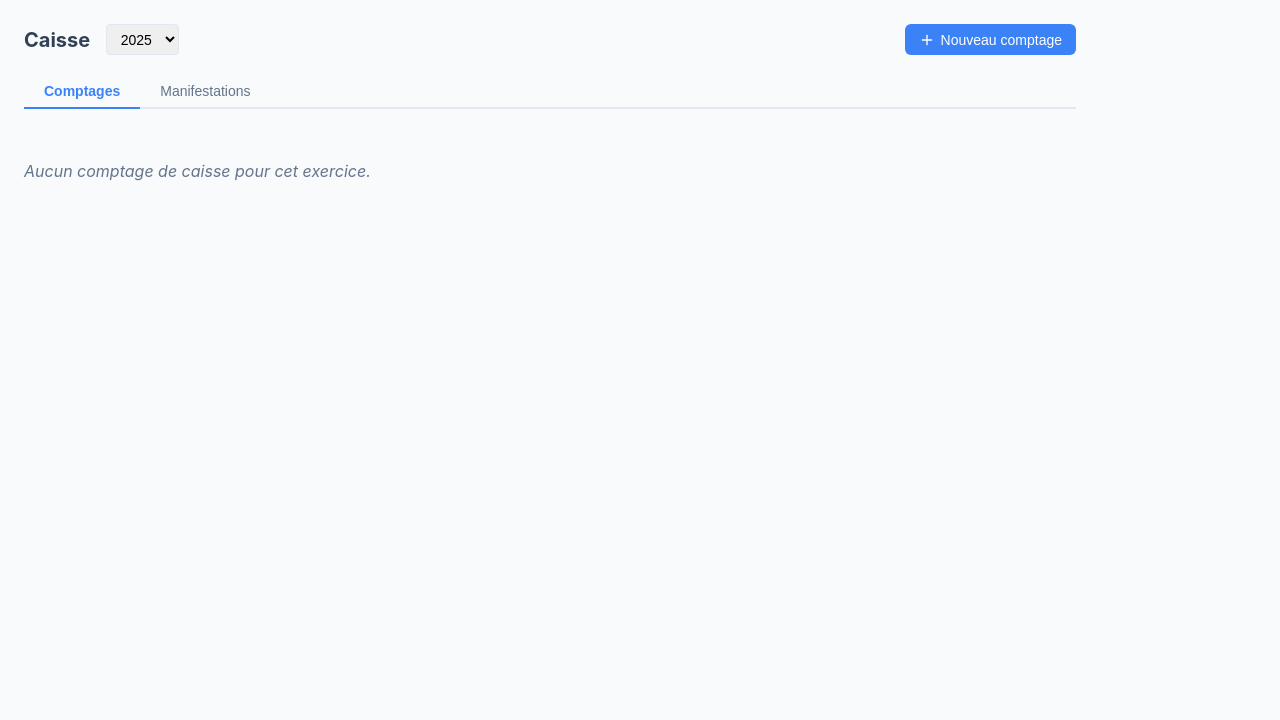
it: CaissePage — onglet Manifestations › le bouton Nouvelle session ouvre la modale
What coordinates should you click on to do the following:
click the tab "Manifestations"
I would click on:
 (205, 92)
Its box is [140,75,270,109].
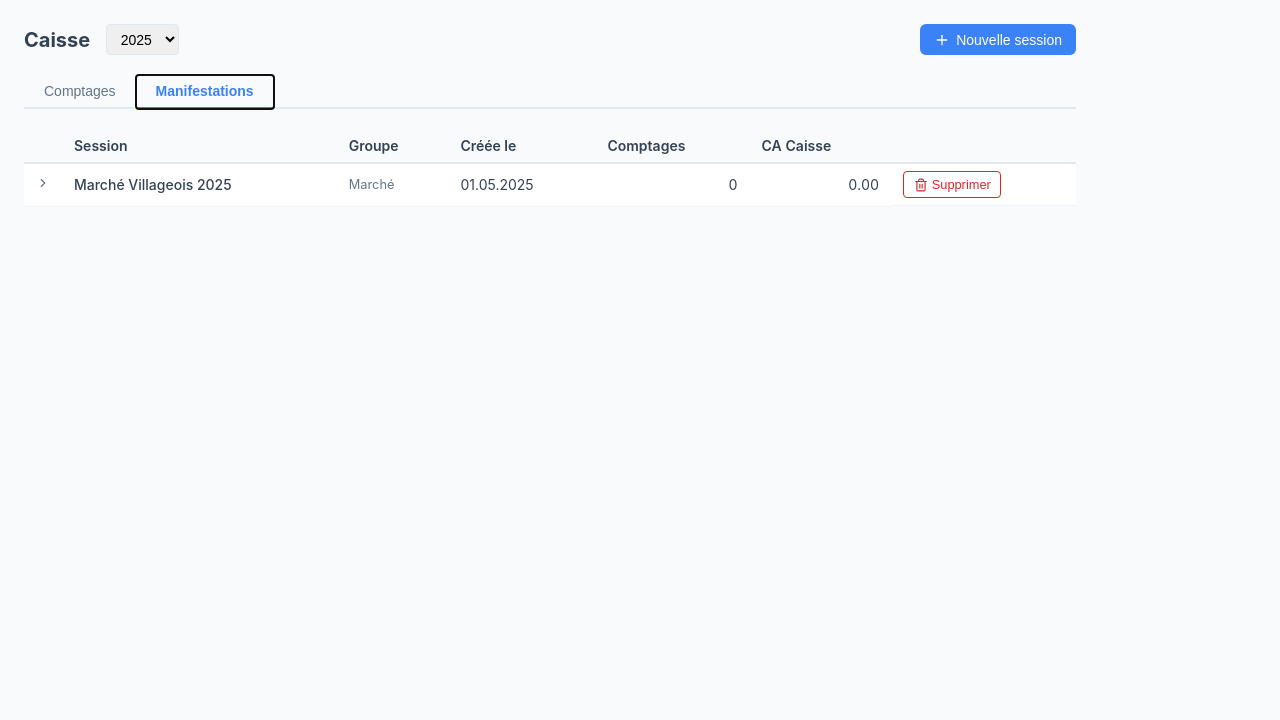
What coordinates should you click on to do the following:
click the button "Nouvelle session"
I would click on:
 (998, 40)
Its box is [920,24,1076,55].
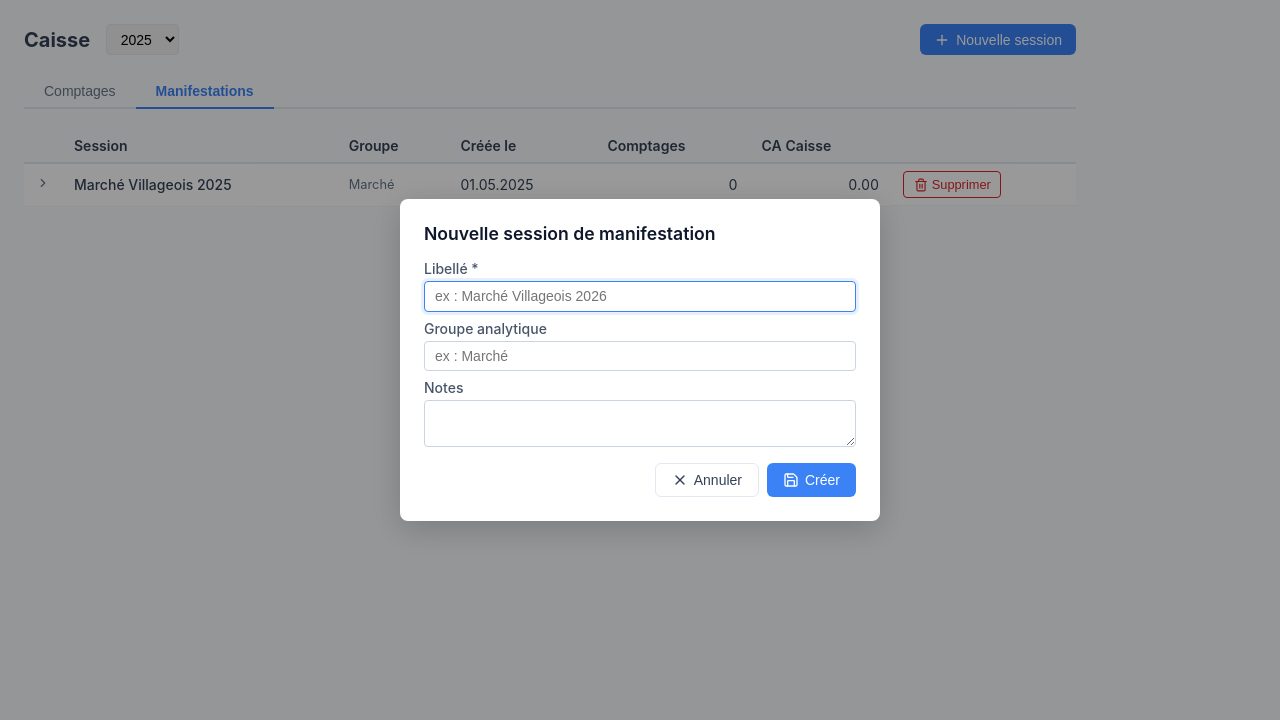
Expected: the heading "Nouvelle session de manifestation" is shown, [424,223,716,244]
